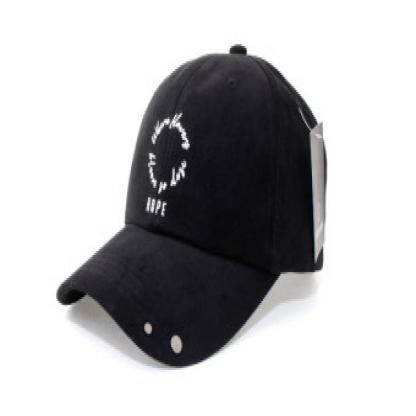cap: (50, 34, 330, 372)
